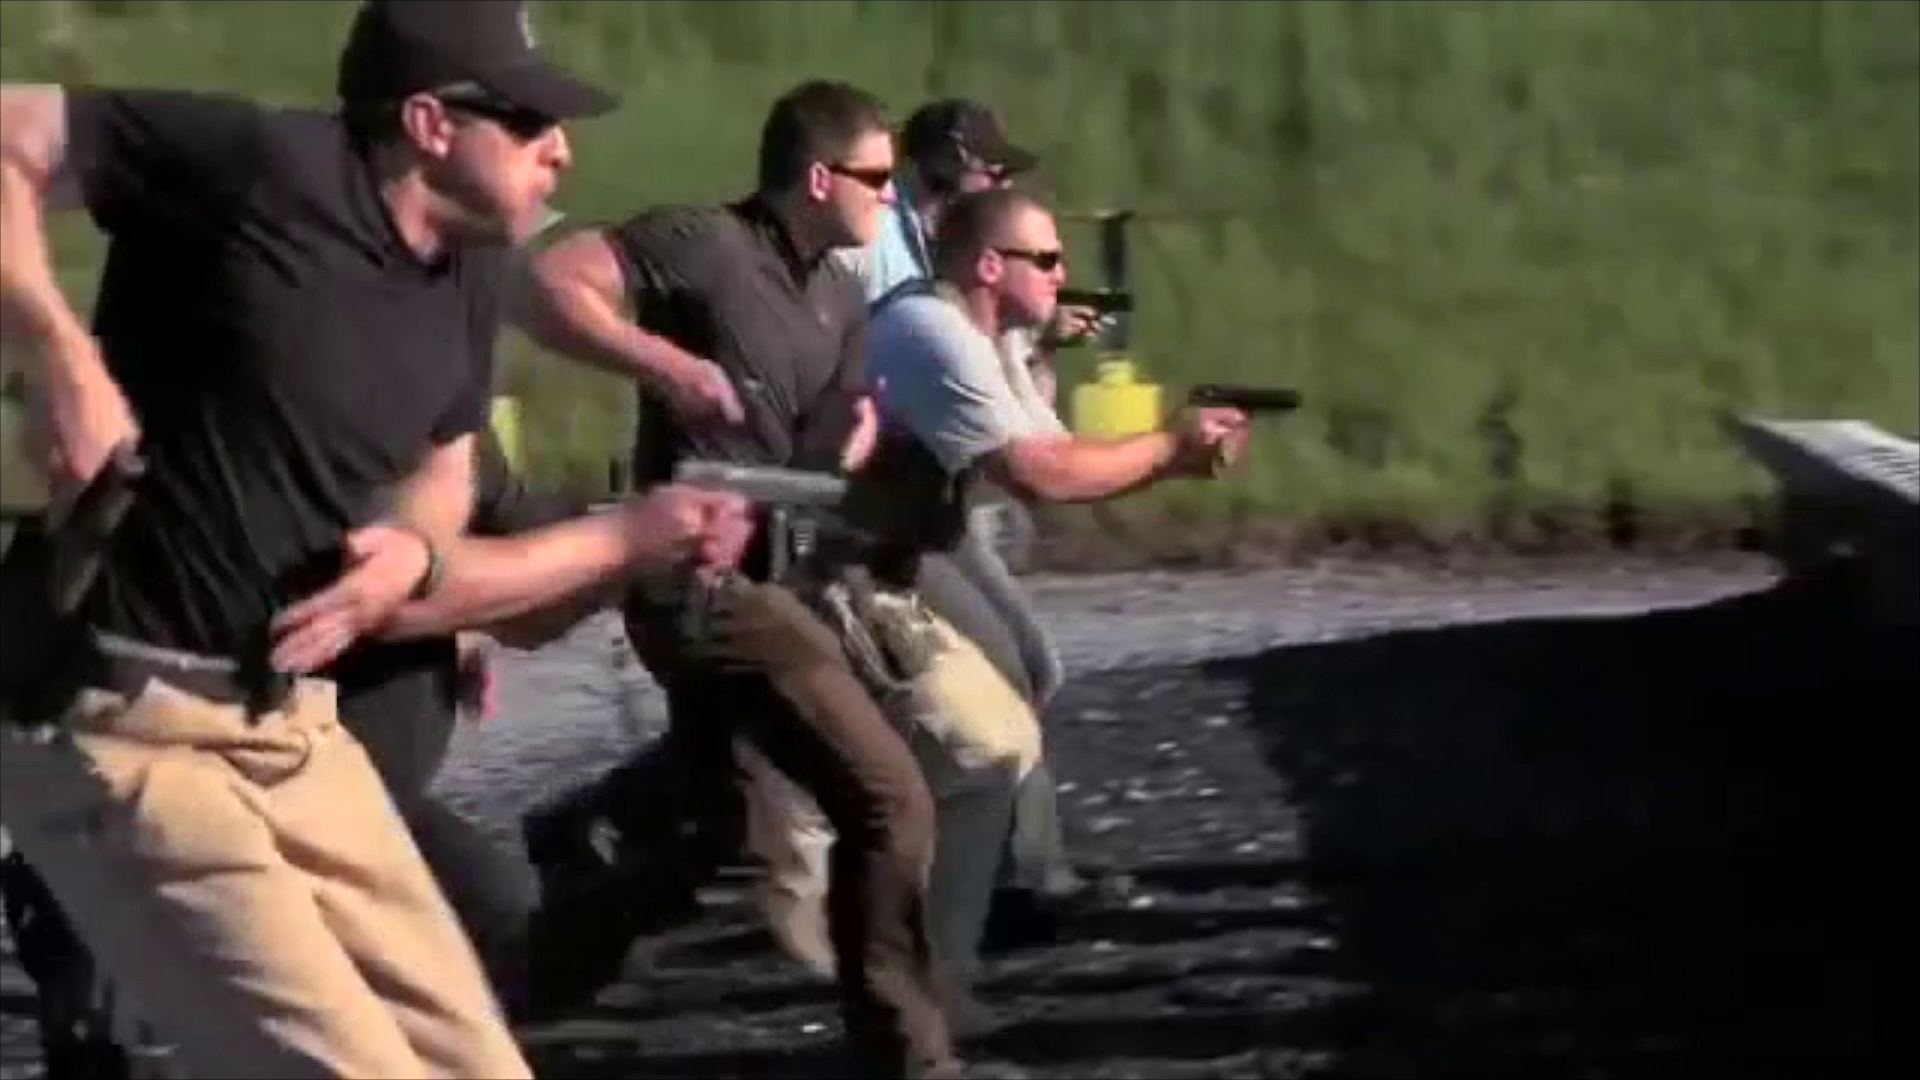gun: (30, 430, 160, 622), (676, 447, 852, 527), (1179, 368, 1313, 419), (1058, 276, 1141, 322)
